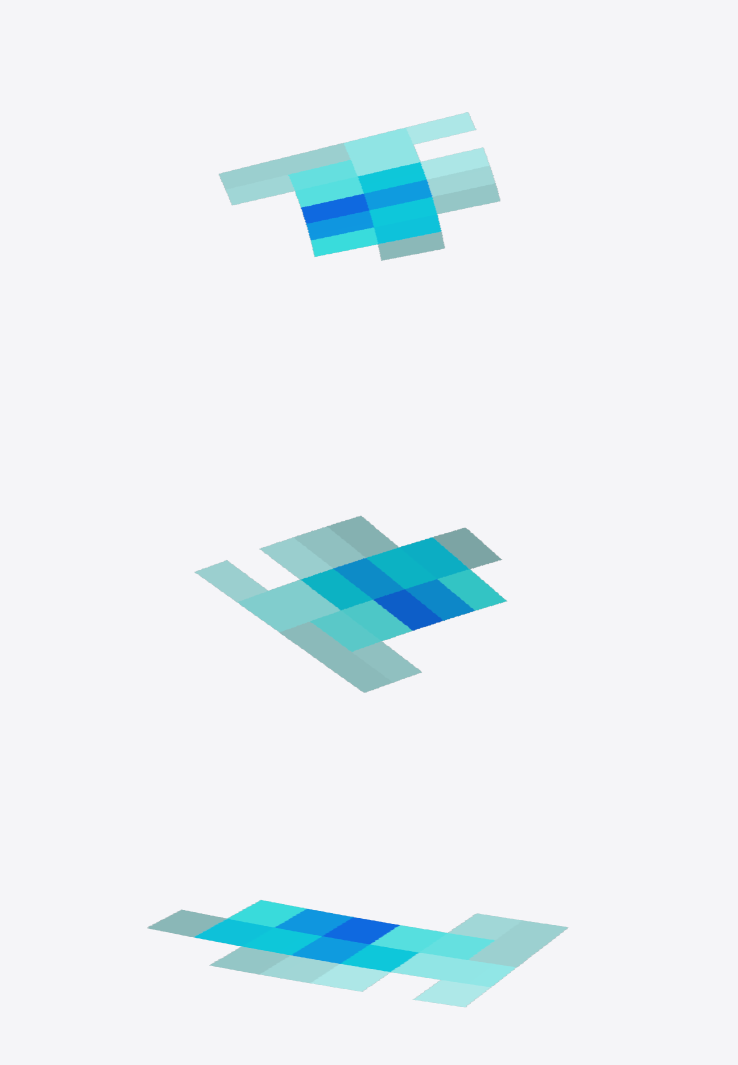
The model's file is KLOT_20030327_054711_REF_0991-83302.png.dae.
The picture shows the model from 3 angles, top to bottom: view 1: azimuth 30°, elevation 25°; view 2: azimuth 150°, elevation 25°; view 3: azimuth 270°, elevation 25°; orthographic projection. The views are drawn at different scales.
Visible parts, largest first — view 1: TIN; view 2: TIN; view 3: TIN.
Part boxes in pixels (x1,y1,x2,y2): TIN: [219, 112, 500, 260]; TIN: [194, 516, 506, 692]; TIN: [147, 900, 568, 1007].
Size of the model in its own units: 7930 by 8650 by 1823.
1 material, 1 textured.
